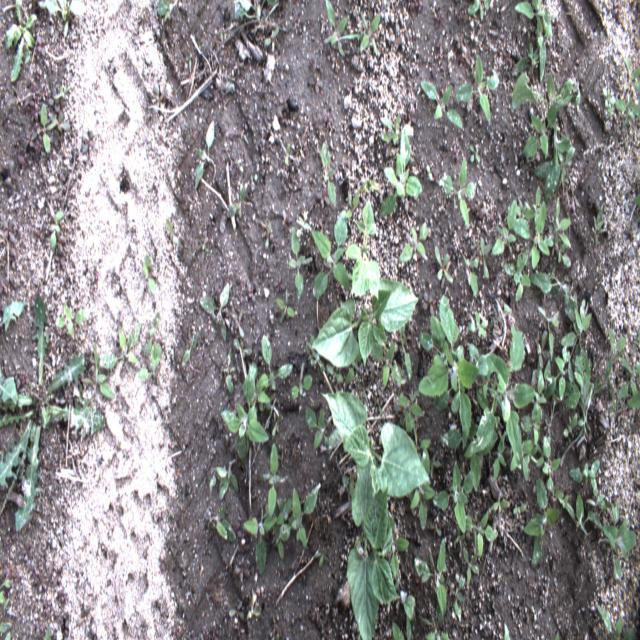crop: (320, 393, 430, 495), (313, 279, 419, 368), (347, 459, 399, 638), (346, 199, 380, 298)
weed: (0, 289, 105, 532), (465, 328, 533, 461), (420, 298, 479, 449), (544, 300, 591, 400), (222, 368, 268, 459), (379, 126, 423, 219), (312, 205, 349, 298), (453, 52, 500, 124), (525, 477, 561, 570), (564, 354, 604, 434), (2, 0, 38, 85), (532, 124, 570, 200), (441, 421, 481, 491), (603, 500, 637, 580), (511, 74, 582, 112), (413, 539, 447, 616), (440, 156, 476, 227), (433, 462, 468, 531), (515, 201, 549, 268), (531, 273, 577, 322), (244, 506, 276, 575), (522, 100, 558, 158), (410, 448, 436, 528), (421, 80, 463, 129), (287, 224, 314, 299), (198, 279, 230, 341), (100, 320, 142, 367), (82, 341, 115, 400), (291, 482, 321, 546), (38, 0, 86, 39), (261, 442, 287, 514), (258, 336, 293, 389), (137, 311, 163, 379), (372, 340, 406, 389), (513, 1, 558, 38), (548, 200, 572, 267), (561, 494, 601, 534), (468, 510, 498, 558), (504, 250, 530, 302), (195, 117, 214, 188), (492, 203, 517, 256), (56, 299, 87, 341), (41, 103, 64, 158), (596, 605, 635, 637), (326, 1, 347, 59), (398, 221, 429, 260), (389, 516, 408, 578), (420, 602, 451, 639), (319, 140, 336, 207), (539, 307, 560, 360), (541, 436, 562, 488), (305, 408, 331, 448), (208, 466, 239, 499), (393, 594, 416, 638), (232, 0, 280, 21), (211, 504, 236, 544), (510, 439, 534, 480), (360, 10, 380, 58), (399, 392, 422, 433), (466, 307, 490, 345), (570, 462, 598, 494), (608, 326, 624, 378), (558, 146, 576, 192), (250, 363, 270, 404), (2, 298, 26, 331), (289, 371, 314, 402), (616, 96, 640, 128), (48, 208, 65, 253), (434, 244, 453, 284), (616, 360, 636, 398), (271, 522, 291, 559), (462, 255, 479, 298), (516, 40, 538, 73), (522, 406, 542, 442), (275, 292, 297, 324), (590, 204, 606, 248), (400, 327, 413, 381), (382, 111, 402, 146), (306, 334, 322, 374), (537, 19, 547, 82), (606, 380, 624, 415), (464, 549, 481, 585), (466, 0, 492, 23), (182, 332, 198, 369), (453, 572, 465, 620), (494, 432, 506, 478), (536, 331, 550, 370), (142, 254, 155, 295), (225, 344, 235, 396), (480, 237, 492, 280), (526, 187, 541, 220), (346, 352, 360, 387), (165, 217, 180, 249), (230, 186, 245, 218), (414, 426, 430, 456), (625, 59, 639, 91), (156, 0, 175, 23), (499, 296, 514, 325), (50, 84, 71, 104), (0, 576, 12, 610), (325, 364, 343, 386), (535, 374, 547, 406), (232, 339, 252, 358), (314, 545, 329, 570), (454, 527, 466, 556), (341, 468, 354, 494), (564, 412, 577, 438), (348, 190, 359, 220), (492, 494, 510, 512), (359, 176, 378, 193), (626, 391, 640, 410), (372, 392, 383, 416), (632, 190, 640, 223), (278, 496, 290, 518), (245, 606, 262, 621), (271, 411, 280, 438), (470, 142, 481, 164), (587, 496, 604, 510), (264, 28, 278, 44), (0, 621, 12, 639), (230, 608, 244, 623), (603, 88, 611, 111), (550, 488, 565, 500), (430, 524, 443, 537), (502, 618, 510, 639), (543, 417, 552, 435), (299, 215, 309, 231), (512, 504, 527, 514), (266, 222, 271, 251), (285, 142, 290, 165), (465, 472, 471, 491), (249, 175, 261, 184), (609, 96, 615, 114), (44, 627, 52, 639), (634, 361, 639, 376), (553, 630, 561, 639)
